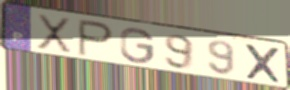9: (163, 33, 196, 70), (206, 39, 237, 76)
G: (119, 27, 157, 65)
P: (76, 17, 116, 59)
X: (242, 42, 284, 86), (35, 13, 74, 57)
